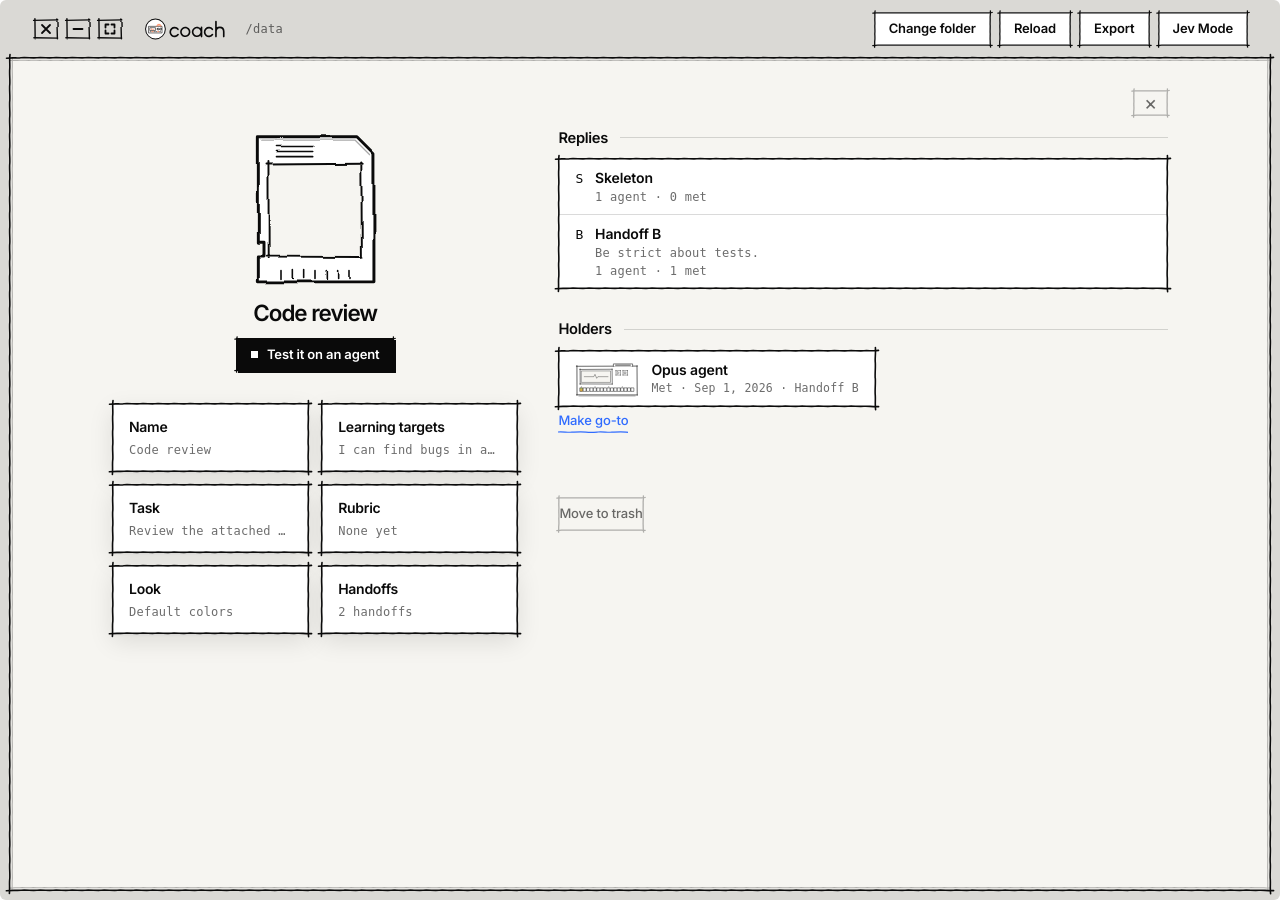
Test: BadgeDetail › handoffs on results › Covers AE3. Once two handoffs have run, the badge lists each with its agents and Met count, and no reply rows
Step 1. Click the button "B Handoff B Be strict about tests. 1 agent · 1 met" → (628, 234), box [559,215,1167,288]
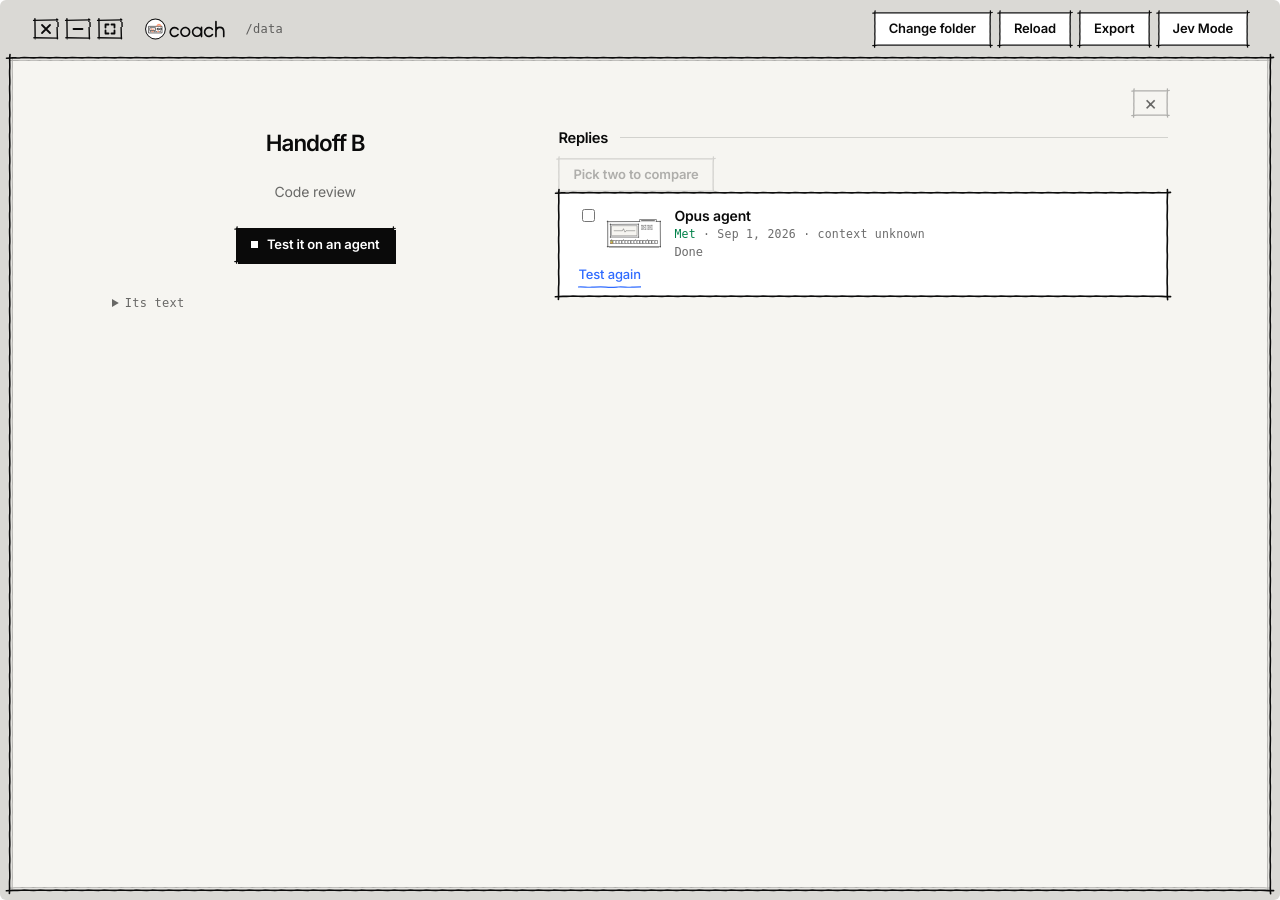
Check: the heading "Handoff B" is shown, box [266,130,364,155]
